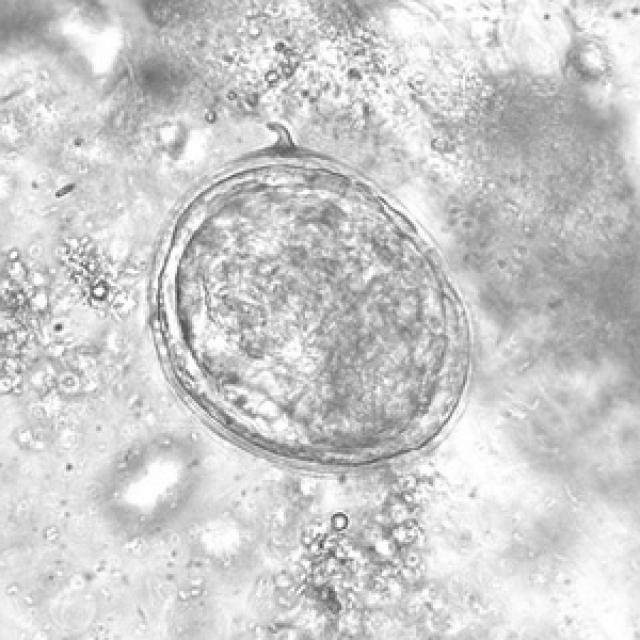Schistosoma: (129, 117, 483, 478)
